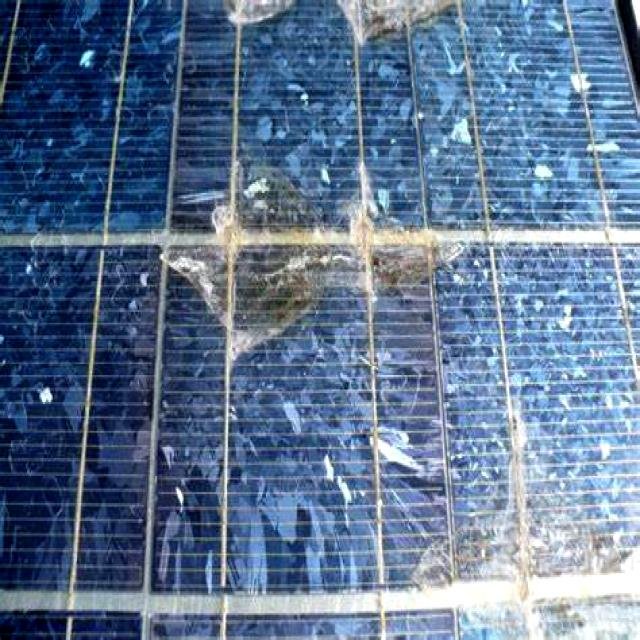shadow: (154, 148, 470, 366)
